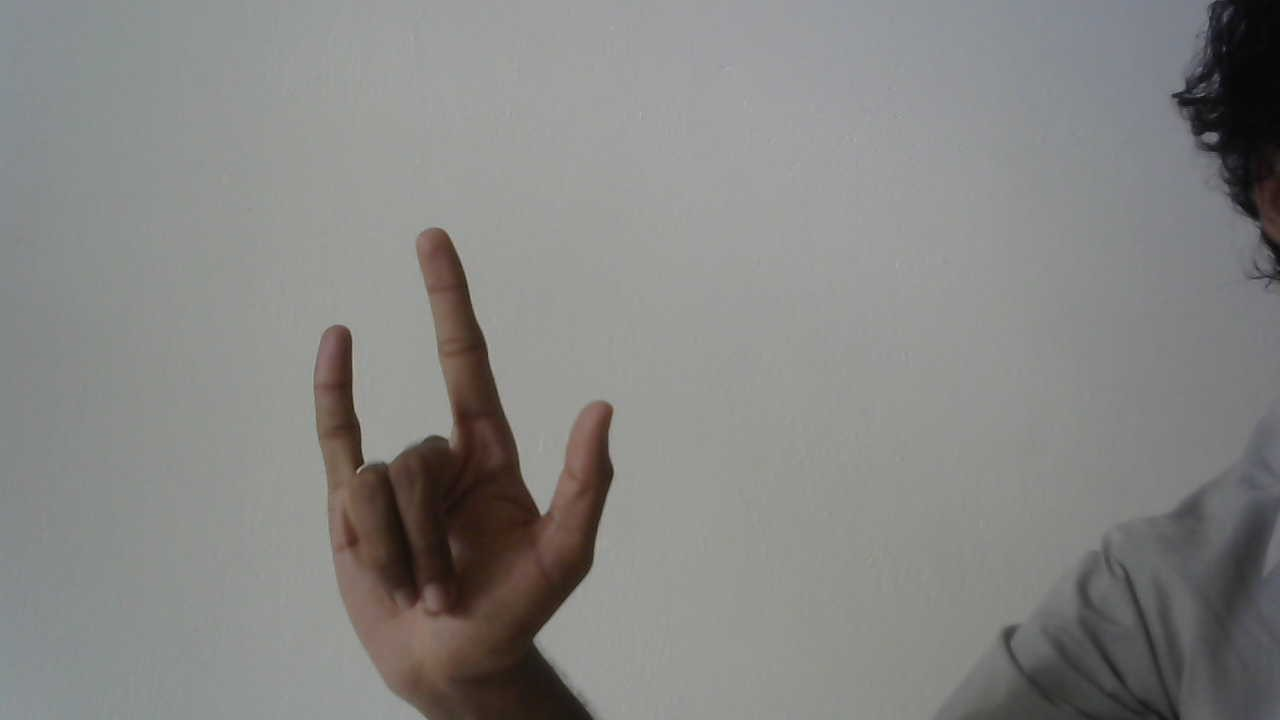iloveyou: (301, 220, 623, 704)
